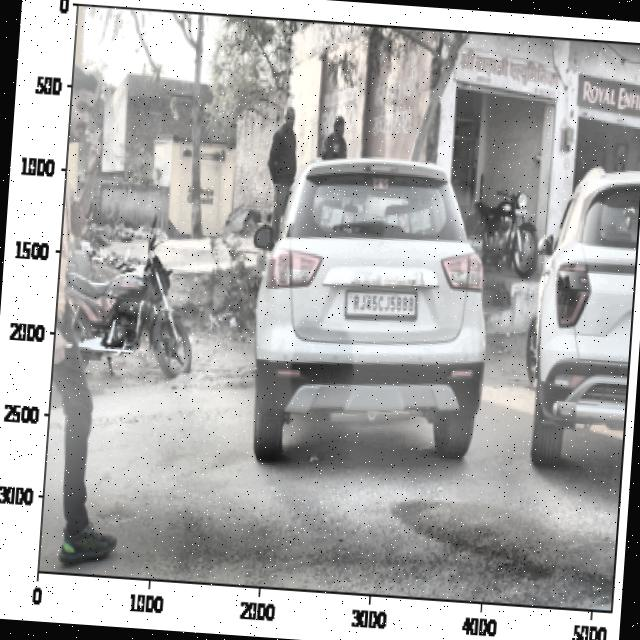license_plate: (344, 286, 418, 323)
